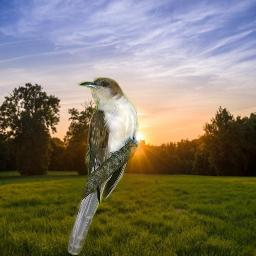Cuckoo: (67, 77, 139, 255)
